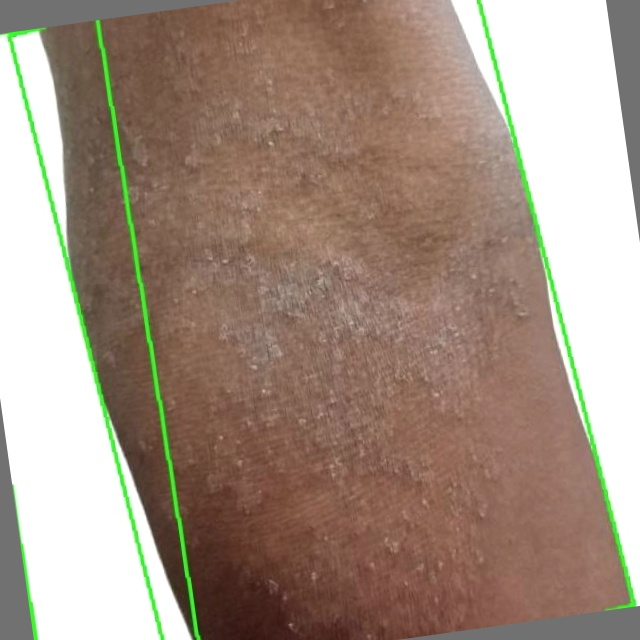Eczema: (9, 0, 633, 639), (0, 19, 197, 639)
